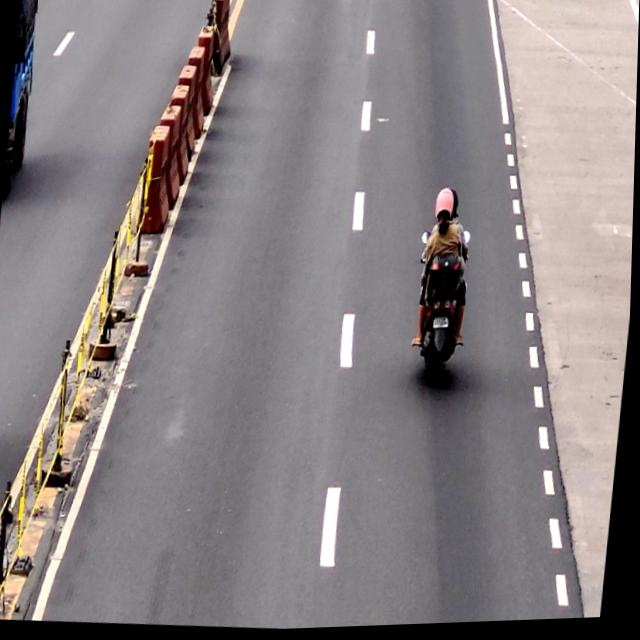License-Plate: (434, 319, 451, 333)
Motorcycle: (409, 230, 474, 392)
